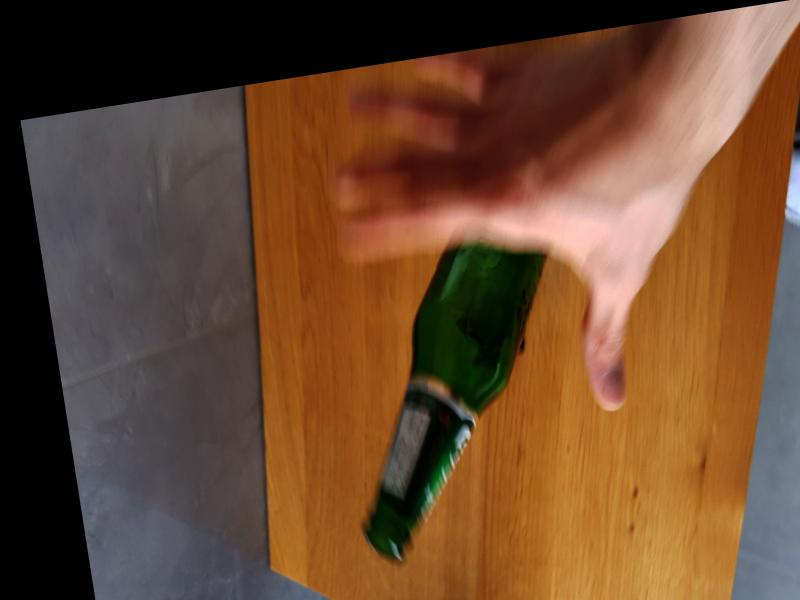Beer: (323, 233, 591, 567)
